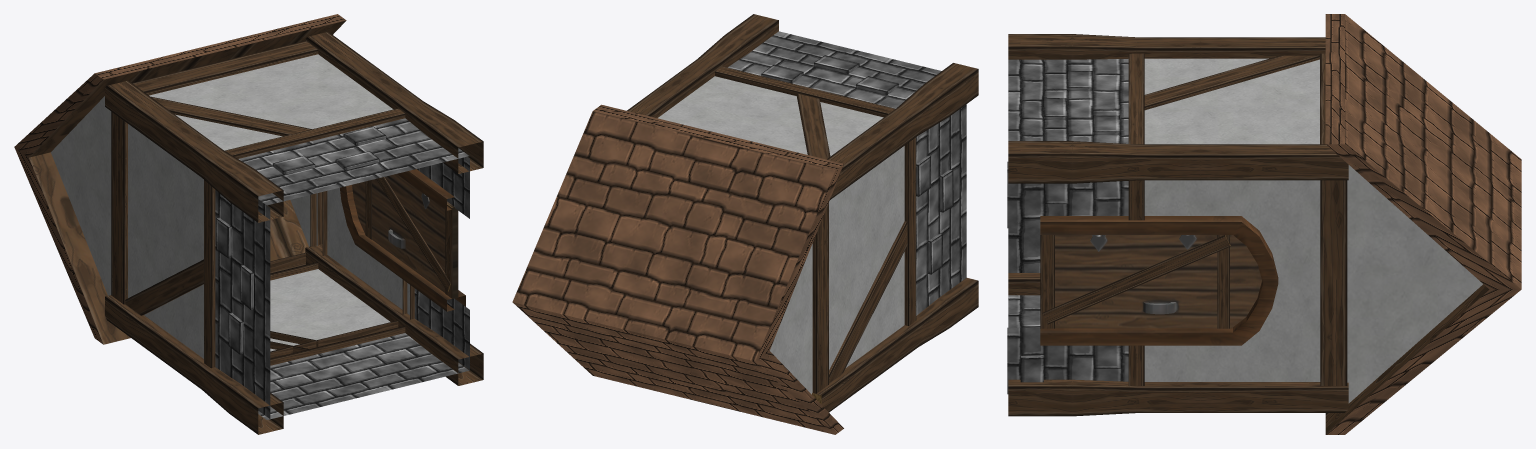
File: Building_d.fbx
3 renders of one model, left to right at view 1: azimuth 30°, elevation 25°; view 2: azimuth 150°, elevation 25°; view 3: azimuth 270°, elevation 25°, orthographic. The views are drawn at different scales.
Visible parts, largest first — view 1: Building_d; view 2: Building_d; view 3: Building_d.
Boxes of the visible parts, box(x1,y1,x2,y2) form: Building_d: box(14, 14, 483, 434); Building_d: box(512, 14, 978, 434); Building_d: box(1007, 14, 1521, 434).
Bounding box in the file's own units: 151 × 252 × 157.
